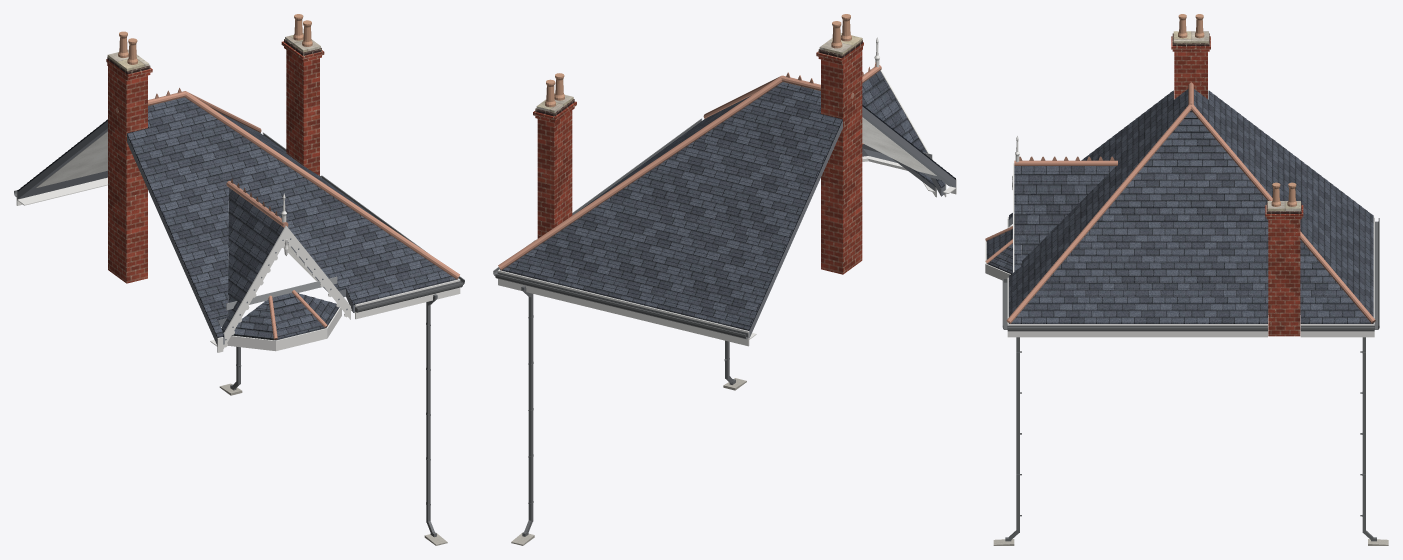
File: roof_r.glb
3 views of the same model, side by side, from view 1: azimuth 30°, elevation 25°; view 2: azimuth 150°, elevation 25°; view 3: azimuth 270°, elevation 25° (orthographic). The views are drawn at different scales.
Parts seen in each view (by area): view 1: roof_r_shingles, roof_r_brick, roof_r_trim, roof_r_ridge_c, roof_r_slate_c, roof_r_gutter, roof_r_ceil, roof_r_clay, roof_r_stone_c, roof_r_lead; view 2: roof_r_shingles, roof_r_brick, roof_r_gutter, roof_r_trim, roof_r_ridge_c, roof_r_slate_c, roof_r_ceil, roof_r_clay, roof_r_stone_c; view 3: roof_r_shingles, roof_r_brick, roof_r_gutter, roof_r_ridge_c, roof_r_trim, roof_r_clay, roof_r_stone_c.
Part boxes in pixels (x1=…): roof_r_shingles: x1=17, y1=97, x2=458, y2=340; roof_r_brick: x1=106, y1=41, x2=324, y2=283; roof_r_trim: x1=16, y1=177, x2=460, y2=352; roof_r_ridge_c: x1=115, y1=88, x2=459, y2=339; roof_r_slate_c: x1=17, y1=121, x2=354, y2=345; roof_r_gutter: x1=14, y1=132, x2=464, y2=537; roof_r_ceil: x1=36, y1=131, x2=317, y2=281; roof_r_clay: x1=118, y1=14, x2=312, y2=64; roof_r_stone_c: x1=107, y1=33, x2=320, y2=70; roof_r_lead: x1=226, y1=276, x2=337, y2=310; roof_r_shingles: x1=500, y1=71, x2=955, y2=330; roof_r_brick: x1=533, y1=42, x2=863, y2=274; roof_r_gutter: x1=493, y1=118, x2=748, y2=536; roof_r_trim: x1=498, y1=37, x2=956, y2=346; roof_r_ridge_c: x1=498, y1=62, x2=881, y2=270; roof_r_slate_c: x1=749, y1=106, x2=955, y2=338; roof_r_ceil: x1=862, y1=117, x2=936, y2=175; roof_r_clay: x1=545, y1=14, x2=851, y2=107; roof_r_stone_c: x1=536, y1=33, x2=862, y2=112; roof_r_shingles: x1=986, y1=89, x2=1373, y2=323; roof_r_brick: x1=1171, y1=36, x2=1303, y2=336; roof_r_gutter: x1=1002, y1=218, x2=1379, y2=541; roof_r_ridge_c: x1=985, y1=81, x2=1375, y2=323; roof_r_trim: x1=985, y1=135, x2=1374, y2=337; roof_r_clay: x1=1178, y1=14, x2=1296, y2=206; roof_r_stone_c: x1=1173, y1=31, x2=1300, y2=210.
Size of the model in its own units: 6.93 by 12.8 by 10.72.
Materials: 12 (6 with a texture image).
